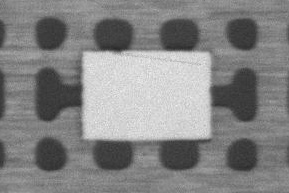DIE_CRACK: (171, 35, 289, 43)
